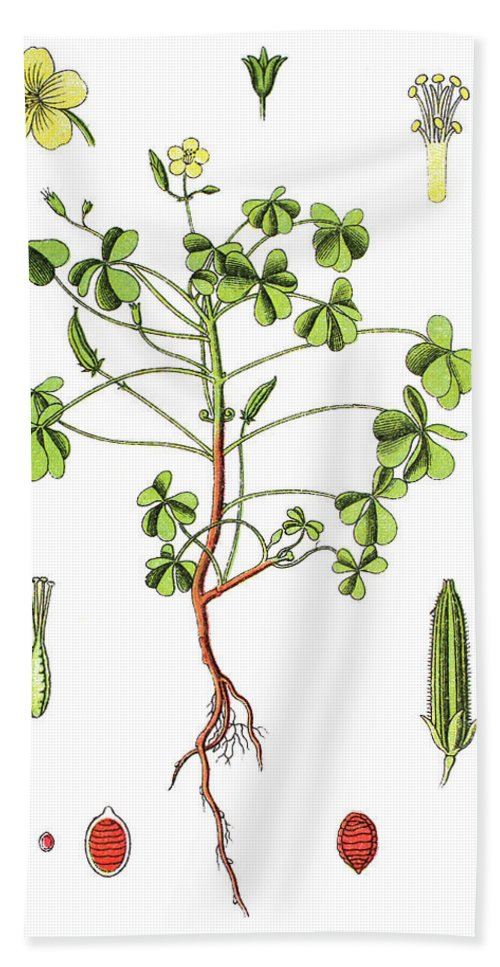oxalis: (11, 207, 466, 559)
